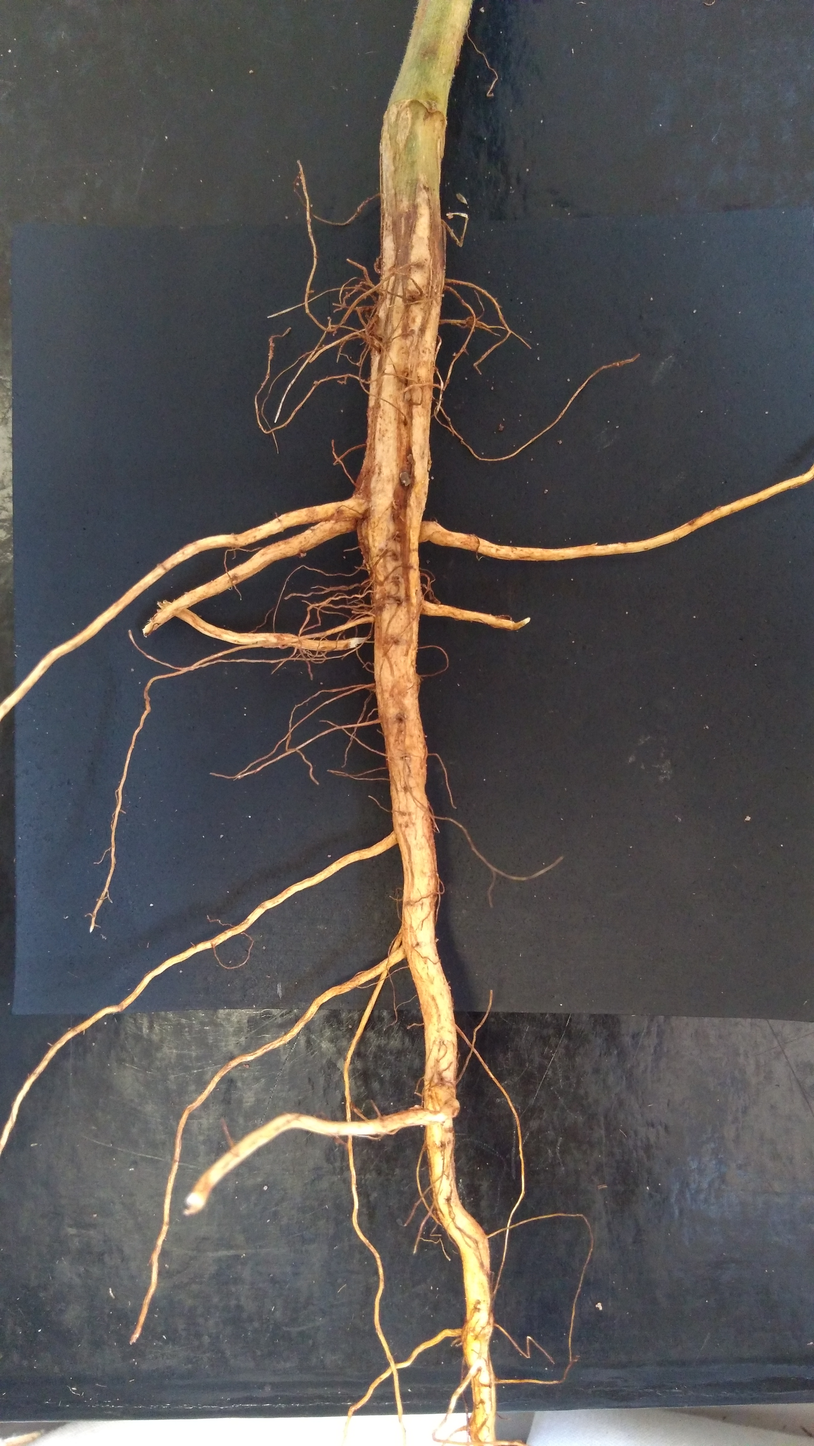nodule: (439, 1097, 461, 1119), (399, 471, 412, 486), (374, 256, 382, 276), (409, 1104, 424, 1111), (406, 453, 414, 464), (595, 1302, 603, 1311), (297, 552, 306, 559), (447, 214, 454, 219), (271, 342, 275, 347), (327, 316, 331, 320), (431, 475, 434, 480), (420, 1124, 423, 1127)
